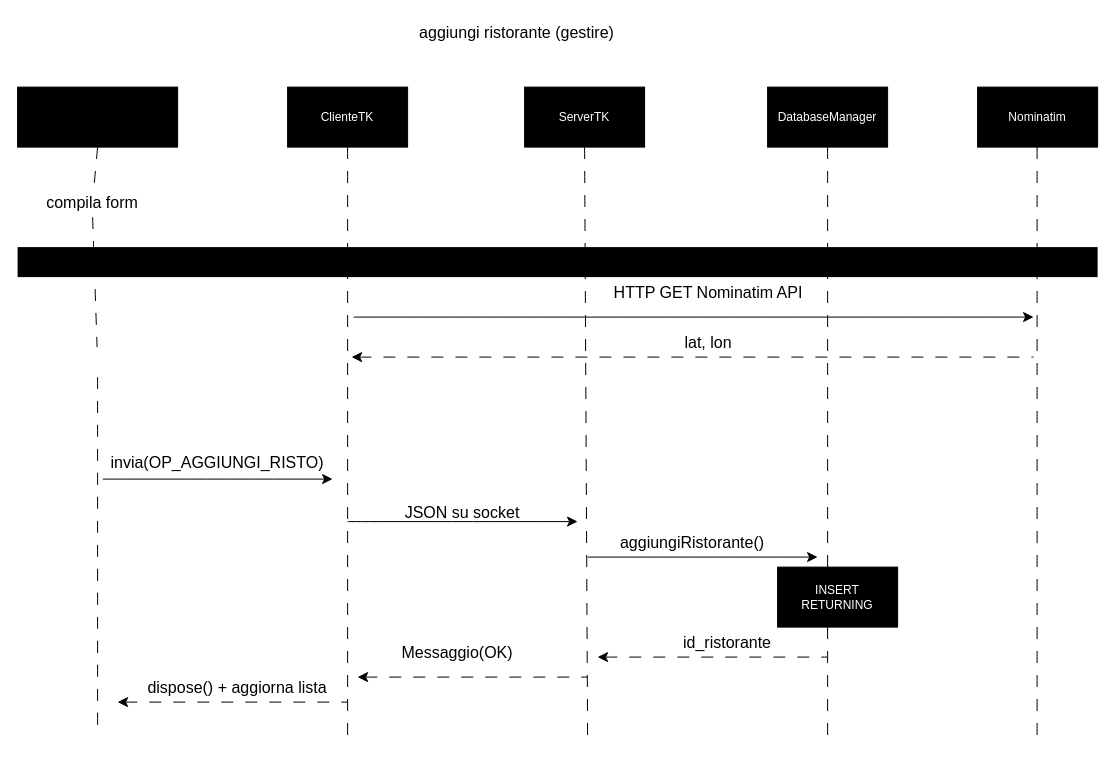
Some shapes in this 1115 by 766 pixel diagram are drawn without their labels. The box of each missing label's shape, as (x1, y1, x2, y2) in pixels:
aggiungiRistroranteDialog: (17, 86, 178, 147)
opt[lat/lon non inseriti]: (17, 247, 1097, 277)
